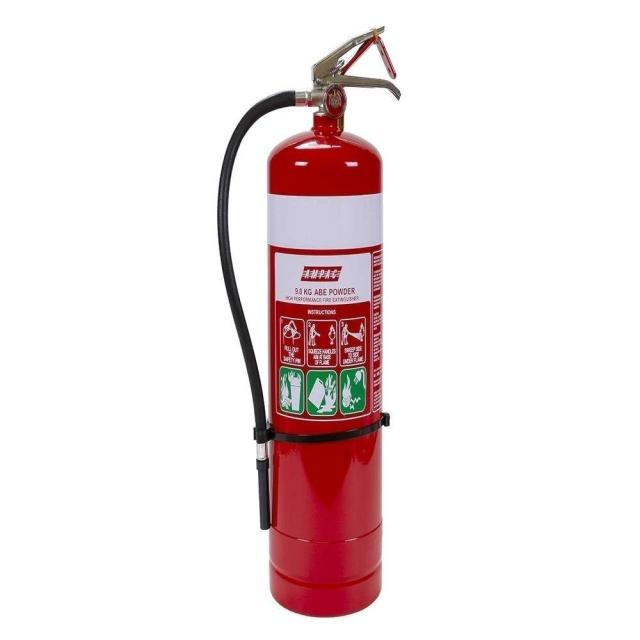fire_extinguisher: (211, 23, 405, 625)
